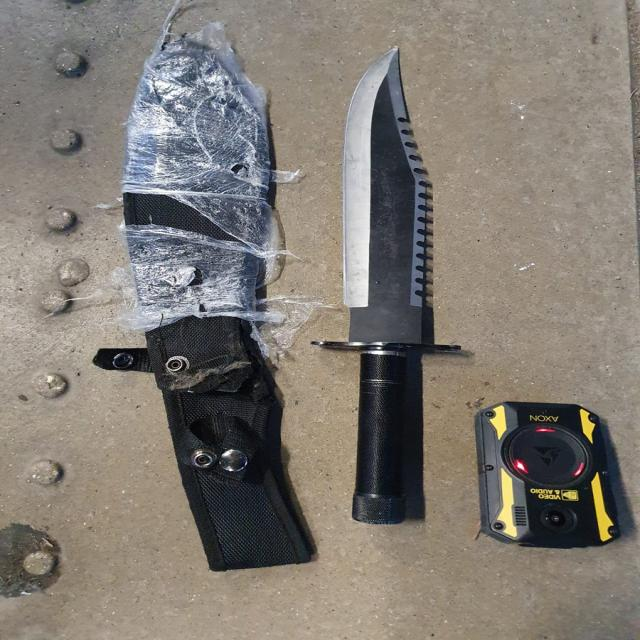Sharp-Object: (312, 48, 461, 525)
